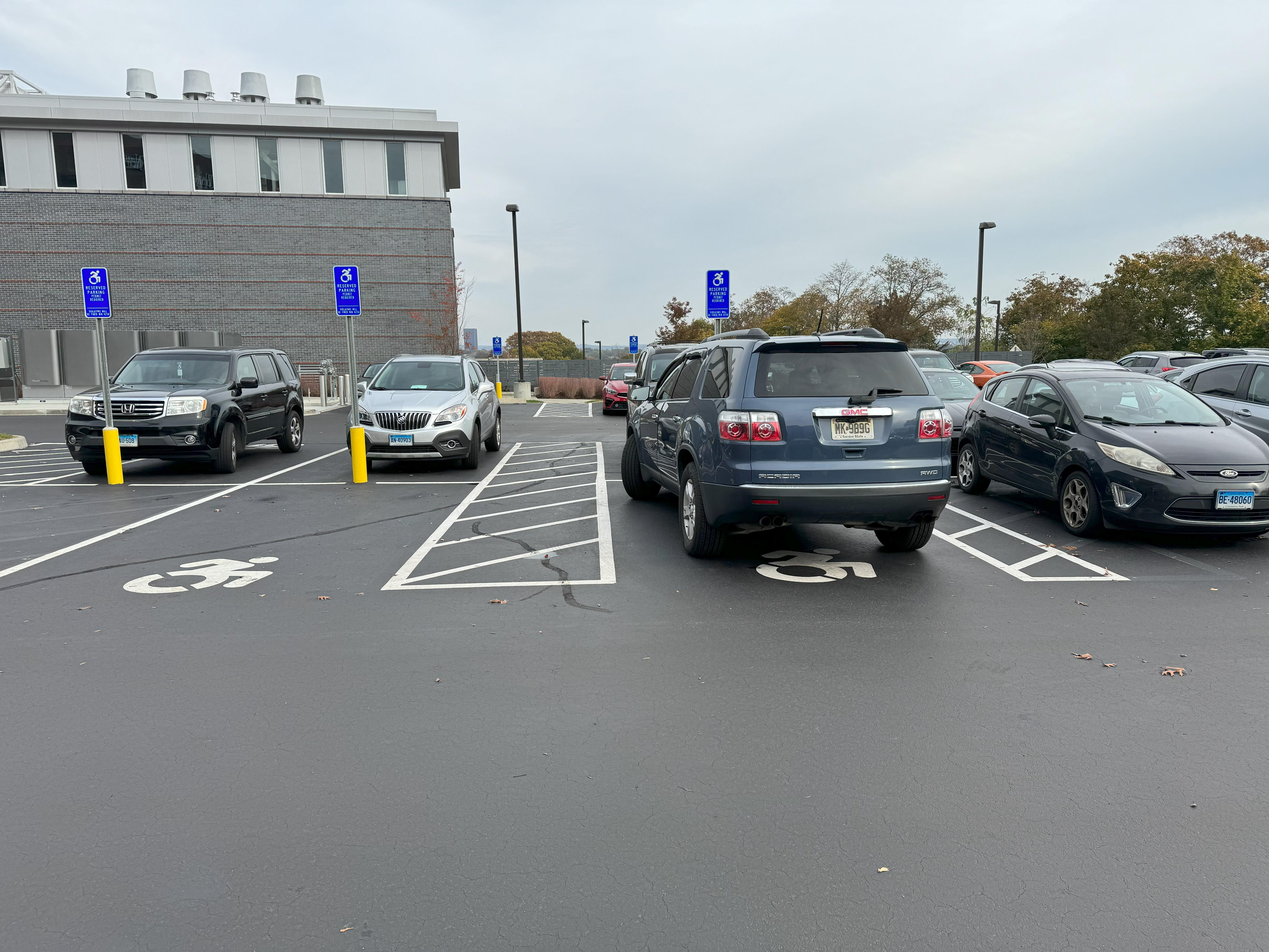empty: (203, 496, 411, 584), (18, 507, 144, 584)
occupied: (614, 354, 953, 588), (969, 340, 1266, 583), (69, 345, 311, 460), (331, 336, 503, 481)
